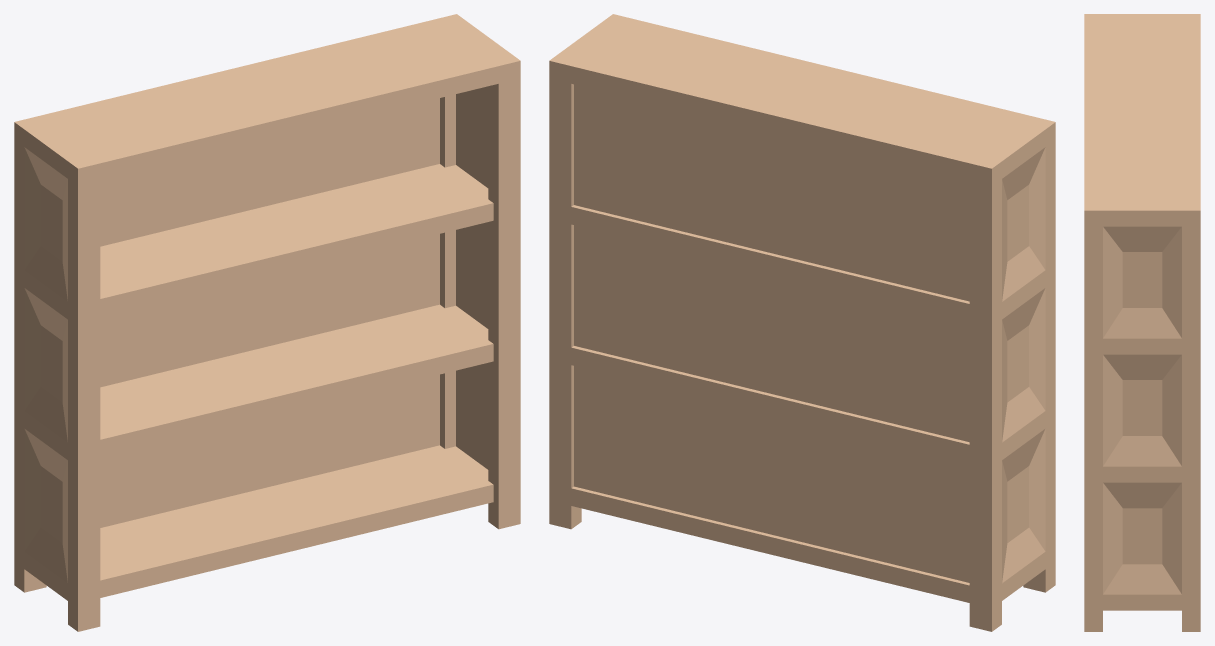
File: bookcaseClosedWide-col.glb
The picture shows the model from 3 angles, left to right: view 1: azimuth 30°, elevation 25°; view 2: azimuth 150°, elevation 25°; view 3: azimuth 270°, elevation 25°; orthographic projection. The views are drawn at different scales.
Parts seen in each view (by area): view 1: bookcaseClosedWide-col; view 2: bookcaseClosedWide-col; view 3: bookcaseClosedWide-col.
Boxes of the visible parts, x1=… form: bookcaseClosedWide-col: x1=14, y1=14, x2=520, y2=631; bookcaseClosedWide-col: x1=549, y1=14, x2=1055, y2=631; bookcaseClosedWide-col: x1=1084, y1=14, x2=1200, y2=631.
Bounding box in the file's own units: 1 × 1 × 0.25.
